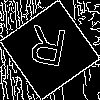R: (25, 25, 69, 76)
